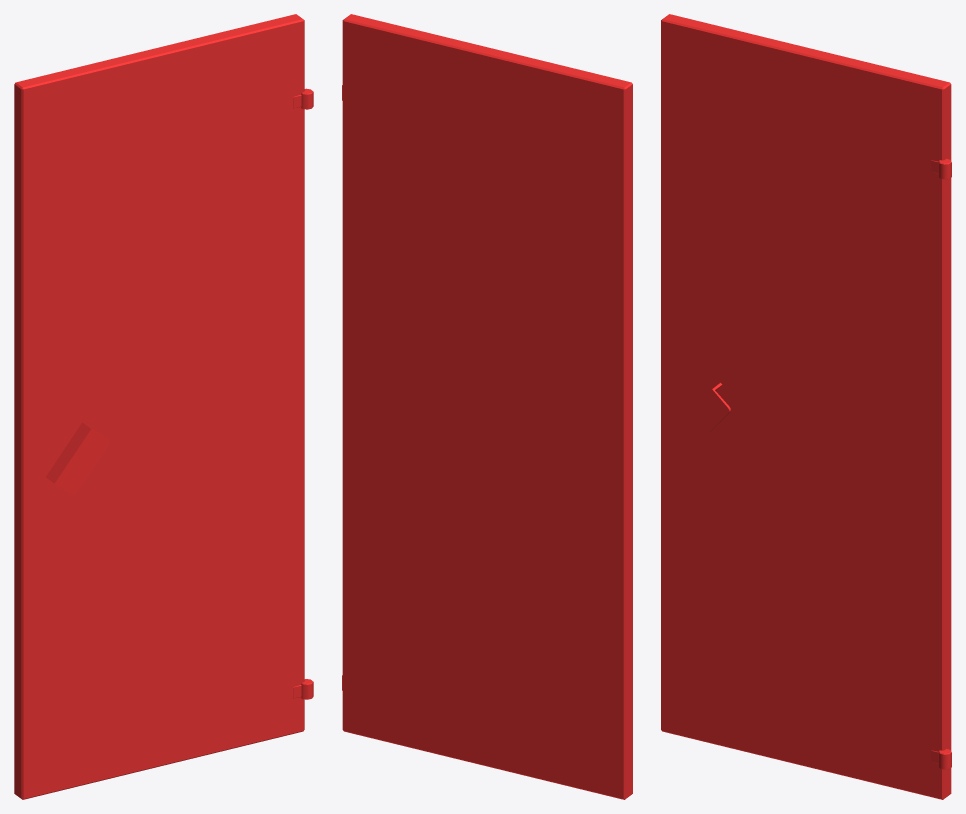
The model's file is Door_01_001.fbx.
3 views of the same model, side by side, from view 1: azimuth 30°, elevation 25°; view 2: azimuth 150°, elevation 25°; view 3: azimuth 330°, elevation 25° (orthographic).
Visible parts, largest first — view 1: Door01_001; view 2: Door01_001; view 3: Door01_001.
Boxes of the visible parts, box(x1,y1,x2,y2) form: Door01_001: box(14, 14, 313, 799); Door01_001: box(342, 14, 632, 799); Door01_001: box(661, 14, 951, 799).
Size of the model in its own units: 98.07 by 230 by 10.38.
